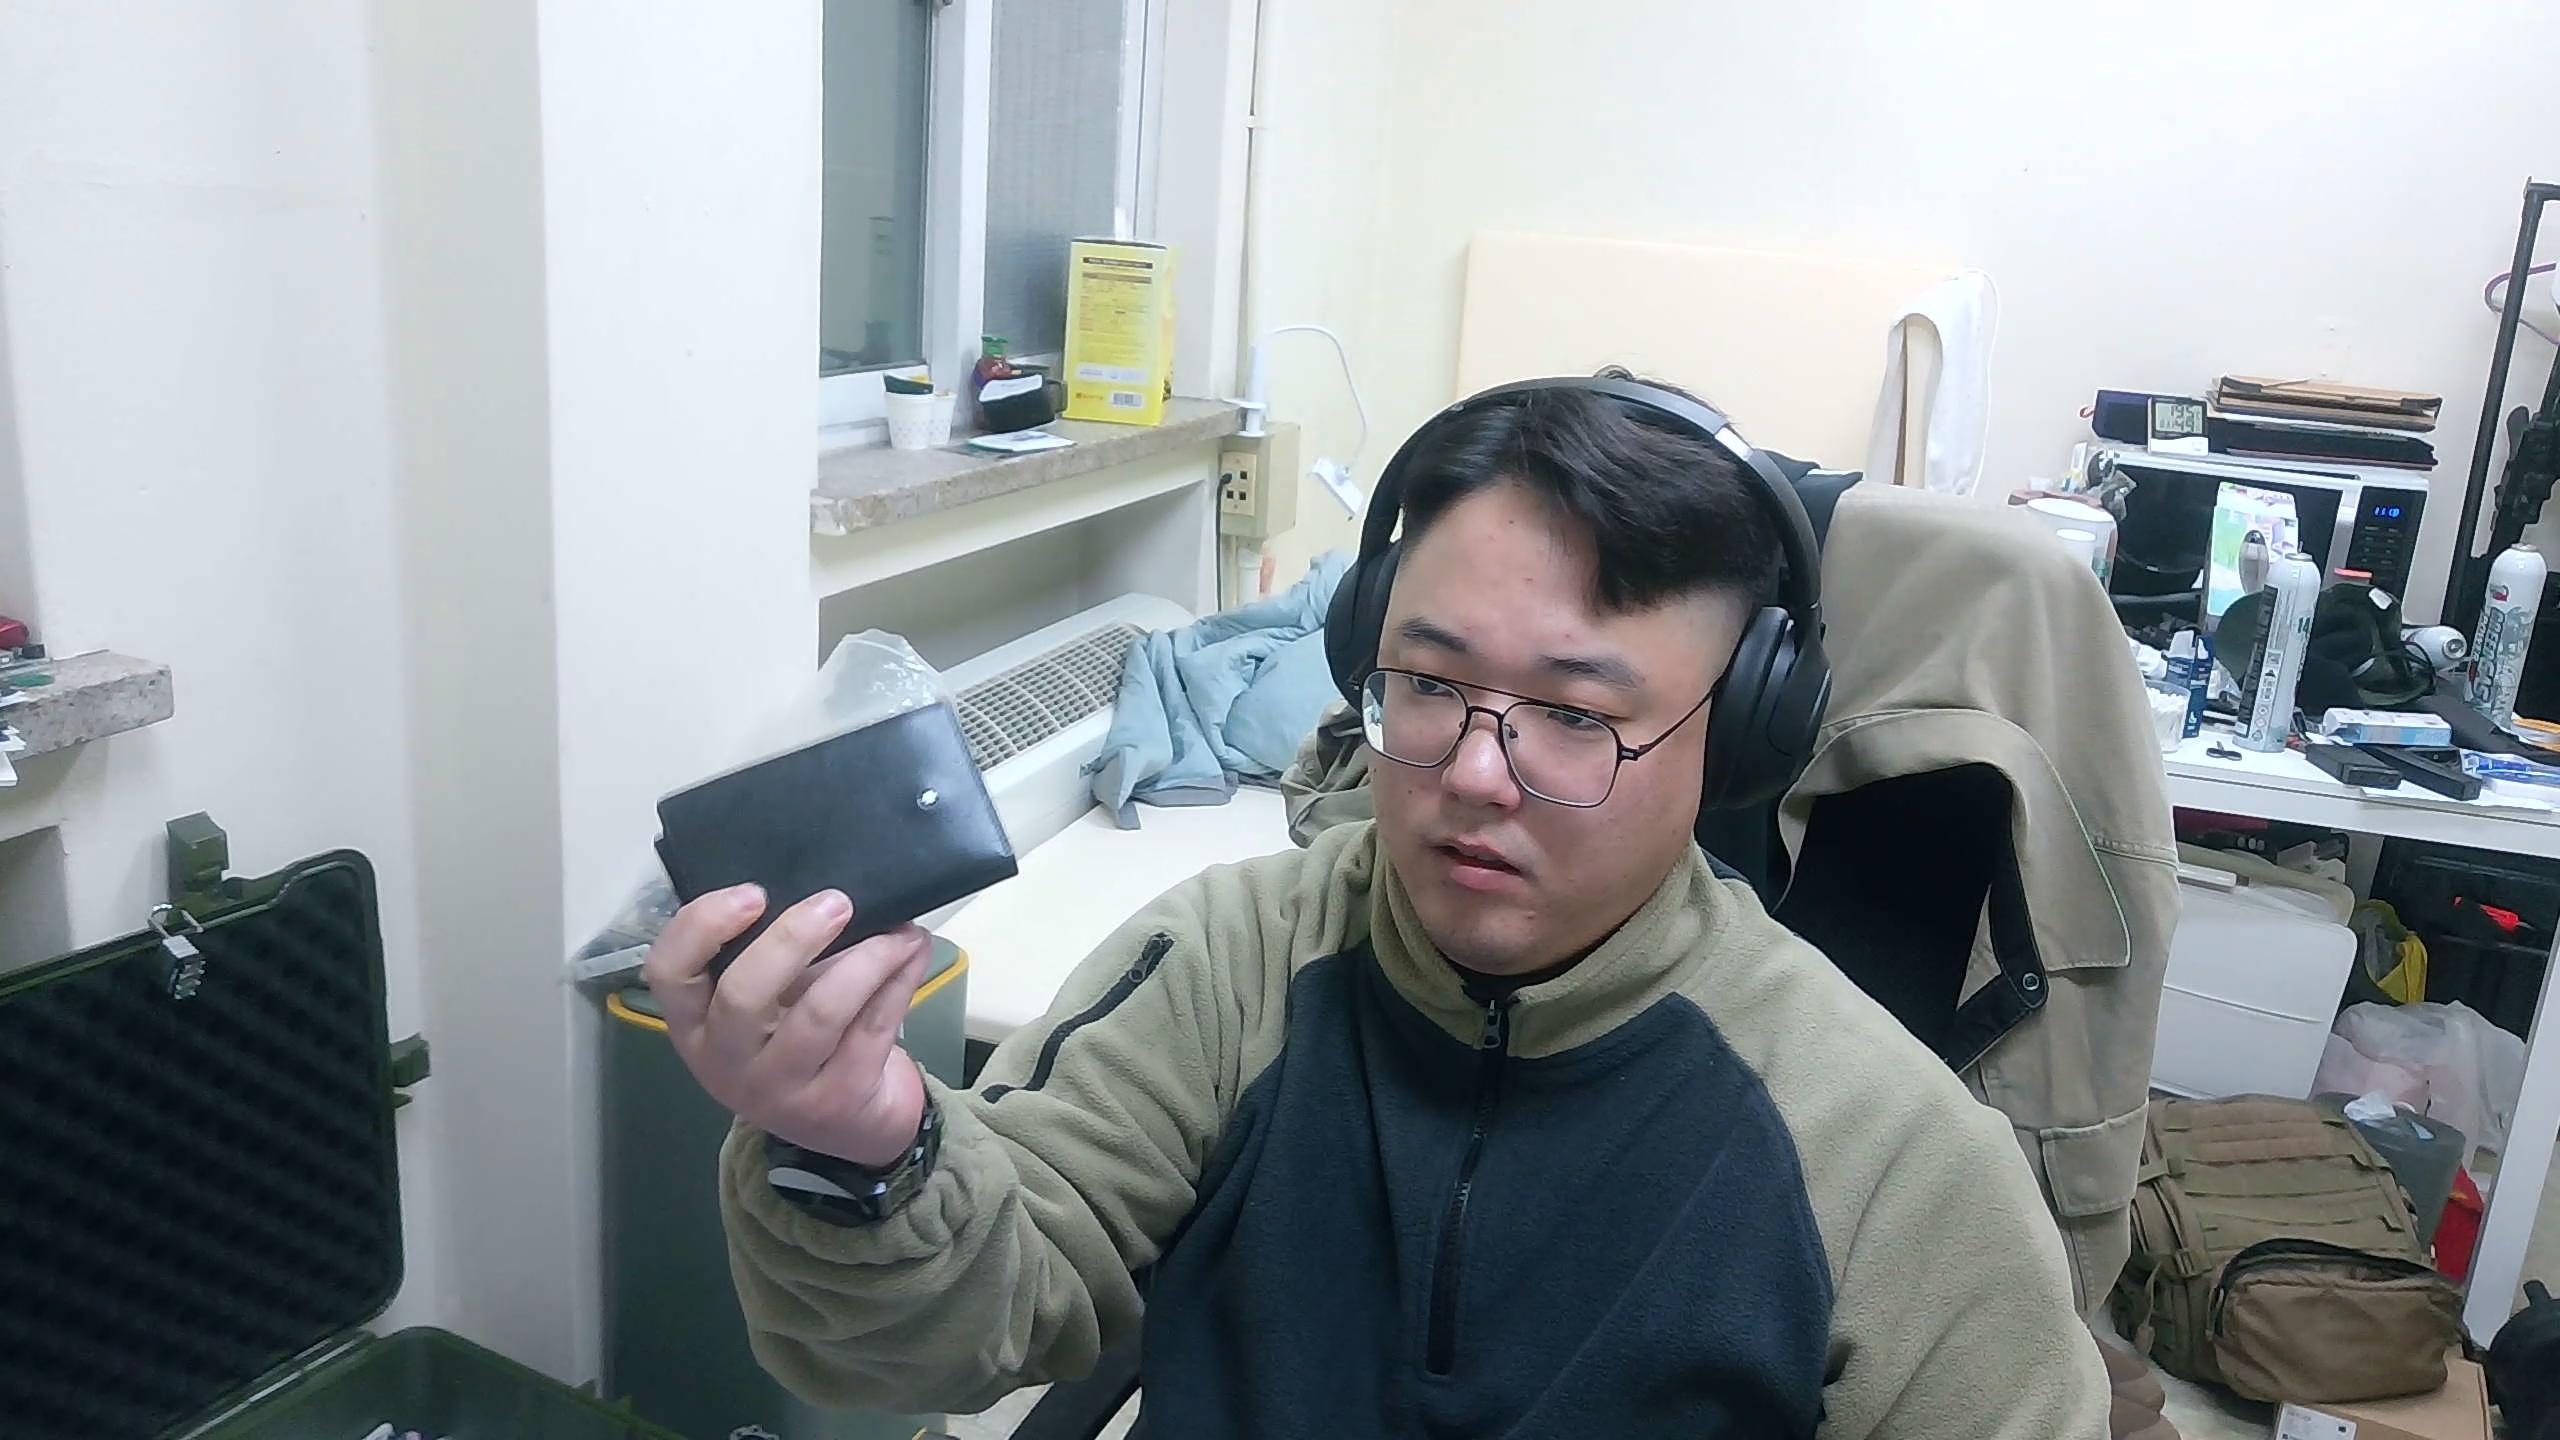Wallet: (652, 695, 1023, 971)
